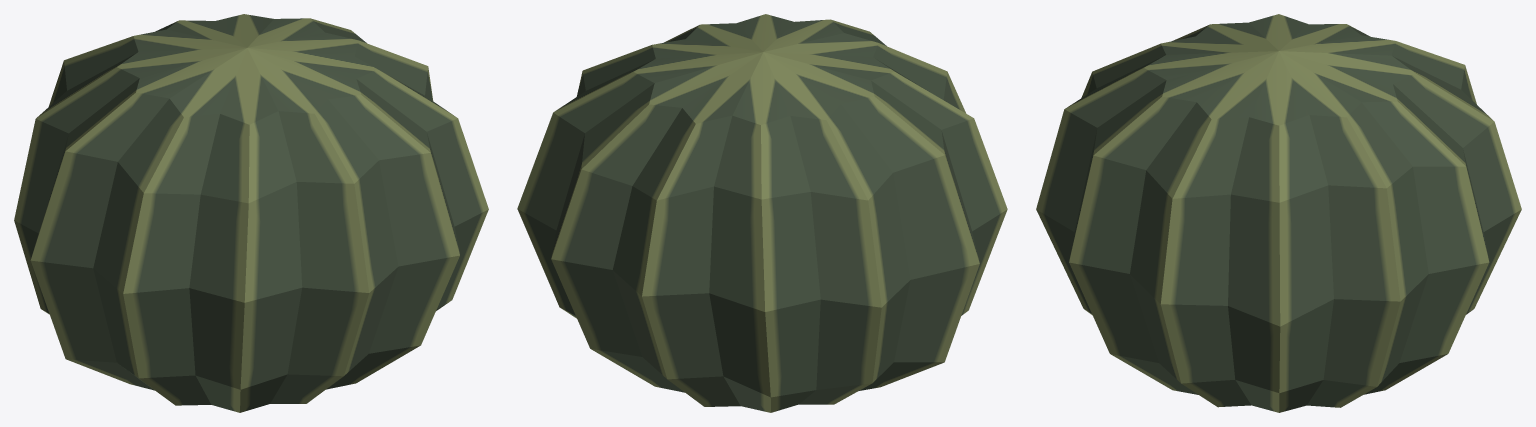
The model's file is SM_Env_Cactus_01.glb.
The picture shows the model from 3 angles, left to right: view 1: azimuth 30°, elevation 25°; view 2: azimuth 150°, elevation 25°; view 3: azimuth 270°, elevation 25°; orthographic projection.
Visible parts, largest first — view 1: SM_Env_Cactus_01; view 2: SM_Env_Cactus_01; view 3: SM_Env_Cactus_01.
Part boxes in pixels (x1=…): SM_Env_Cactus_01: x1=14, y1=14, x2=488, y2=412; SM_Env_Cactus_01: x1=517, y1=14, x2=1007, y2=412; SM_Env_Cactus_01: x1=1036, y1=14, x2=1521, y2=412.
Bounding box in the file's own units: 0.7766 × 0.5584 × 0.7851.
1 material, 1 textured.
